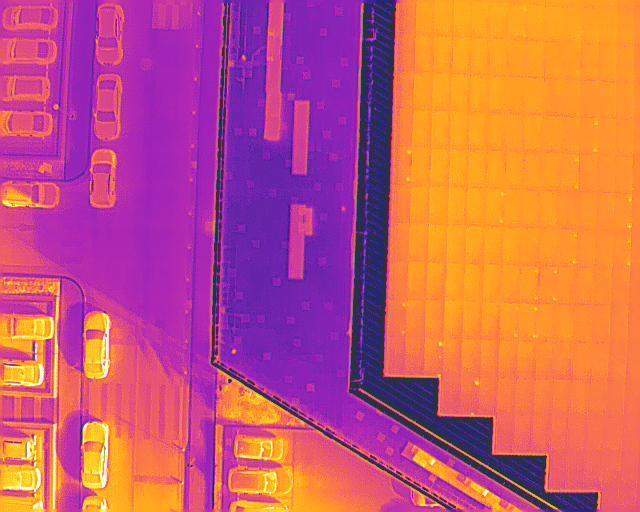Cell-Multi: (499, 302, 520, 339), (388, 300, 407, 340), (393, 146, 412, 186), (461, 378, 480, 417), (486, 186, 504, 227), (614, 191, 633, 229), (519, 303, 538, 340), (424, 339, 443, 376), (561, 152, 580, 189), (521, 264, 539, 303), (558, 229, 577, 265), (581, 117, 599, 154), (540, 265, 558, 301)
No-Anomaly: (465, 186, 487, 226), (503, 225, 524, 264), (444, 263, 465, 301), (480, 339, 500, 378), (490, 0, 510, 39), (433, 72, 453, 111), (426, 263, 447, 300), (389, 261, 408, 301), (502, 264, 522, 302), (593, 265, 613, 303), (424, 301, 444, 339), (463, 301, 483, 339), (461, 340, 481, 378), (602, 452, 622, 490), (543, 77, 563, 115), (449, 148, 468, 188), (505, 150, 525, 188), (541, 151, 561, 189), (396, 36, 416, 74), (508, 39, 528, 77), (489, 76, 509, 114), (444, 301, 463, 340), (485, 225, 504, 264), (468, 148, 487, 187), (509, 0, 528, 39), (448, 186, 467, 225), (428, 187, 447, 226), (481, 302, 501, 339), (607, 340, 627, 377), (499, 340, 519, 377), (532, 378, 552, 415), (495, 416, 515, 453), (540, 189, 560, 226), (412, 110, 432, 147), (542, 114, 562, 151), (428, 226, 448, 263), (583, 453, 603, 490), (546, 40, 566, 77), (522, 227, 541, 265), (464, 263, 483, 301), (483, 264, 502, 302), (406, 339, 425, 377), (391, 186, 410, 224), (453, 0, 472, 38), (410, 187, 429, 225), (505, 188, 524, 226), (595, 190, 614, 228), (466, 225, 485, 263), (490, 39, 509, 77), (528, 40, 547, 78), (599, 43, 618, 81), (470, 74, 489, 112), (507, 77, 526, 115), (386, 340, 406, 376), (553, 339, 571, 379), (412, 147, 430, 187), (545, 5, 565, 41), (451, 76, 471, 112), (601, 416, 622, 450), (586, 379, 605, 416), (394, 109, 413, 146), (468, 112, 487, 149), (449, 113, 468, 150), (616, 119, 635, 156), (598, 6, 617, 43), (414, 73, 433, 110), (588, 339, 606, 378), (518, 339, 536, 378), (605, 378, 623, 417), (524, 149, 542, 188), (578, 190, 596, 229), (447, 225, 465, 264), (472, 37, 490, 76), (571, 303, 591, 338), (532, 417, 552, 452), (541, 226, 559, 264), (408, 262, 426, 300), (612, 266, 630, 304), (443, 340, 462, 376), (442, 377, 461, 413), (480, 377, 498, 415), (513, 415, 531, 453), (565, 453, 584, 489), (408, 225, 427, 261), (395, 73, 414, 109), (431, 112, 450, 148), (524, 113, 542, 151), (431, 149, 449, 187), (435, 0, 454, 36), (523, 188, 541, 226), (560, 190, 578, 228), (617, 6, 635, 44), (390, 225, 409, 261), (415, 35, 433, 73), (581, 79, 599, 117), (595, 228, 613, 265), (613, 230, 631, 267), (575, 265, 593, 302), (407, 300, 425, 337), (514, 379, 532, 416), (550, 416, 568, 453), (549, 452, 567, 489), (597, 154, 615, 191), (487, 149, 505, 186), (616, 82, 634, 119), (488, 113, 506, 150), (472, 0, 490, 37), (454, 38, 472, 75), (591, 303, 610, 338), (615, 156, 634, 191), (434, 37, 453, 72), (525, 78, 544, 113), (536, 339, 553, 378), (571, 339, 588, 378), (618, 43, 635, 82), (562, 117, 580, 153), (506, 114, 524, 150), (397, 0, 415, 36), (599, 81, 617, 117), (498, 377, 515, 415), (416, 0, 435, 34), (582, 42, 599, 80), (577, 229, 595, 264), (558, 265, 575, 302), (555, 302, 572, 339), (599, 117, 616, 154), (580, 153, 597, 190), (564, 78, 581, 115), (538, 302, 555, 338), (611, 303, 628, 339), (569, 379, 586, 415), (567, 415, 584, 451), (529, 5, 546, 41), (564, 6, 582, 40), (585, 416, 602, 451), (582, 6, 599, 41), (553, 379, 569, 416), (565, 41, 581, 78)
